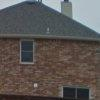Chimney: (55, 2, 76, 19)
